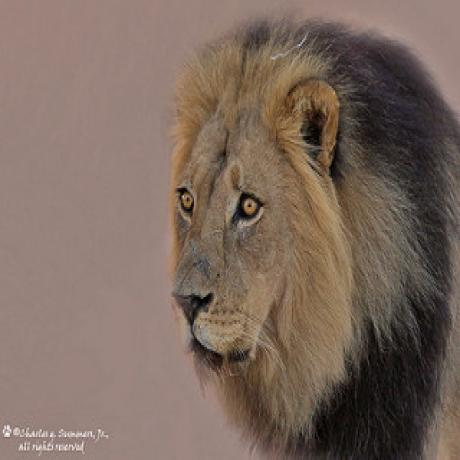Lion: (167, 20, 460, 460)
